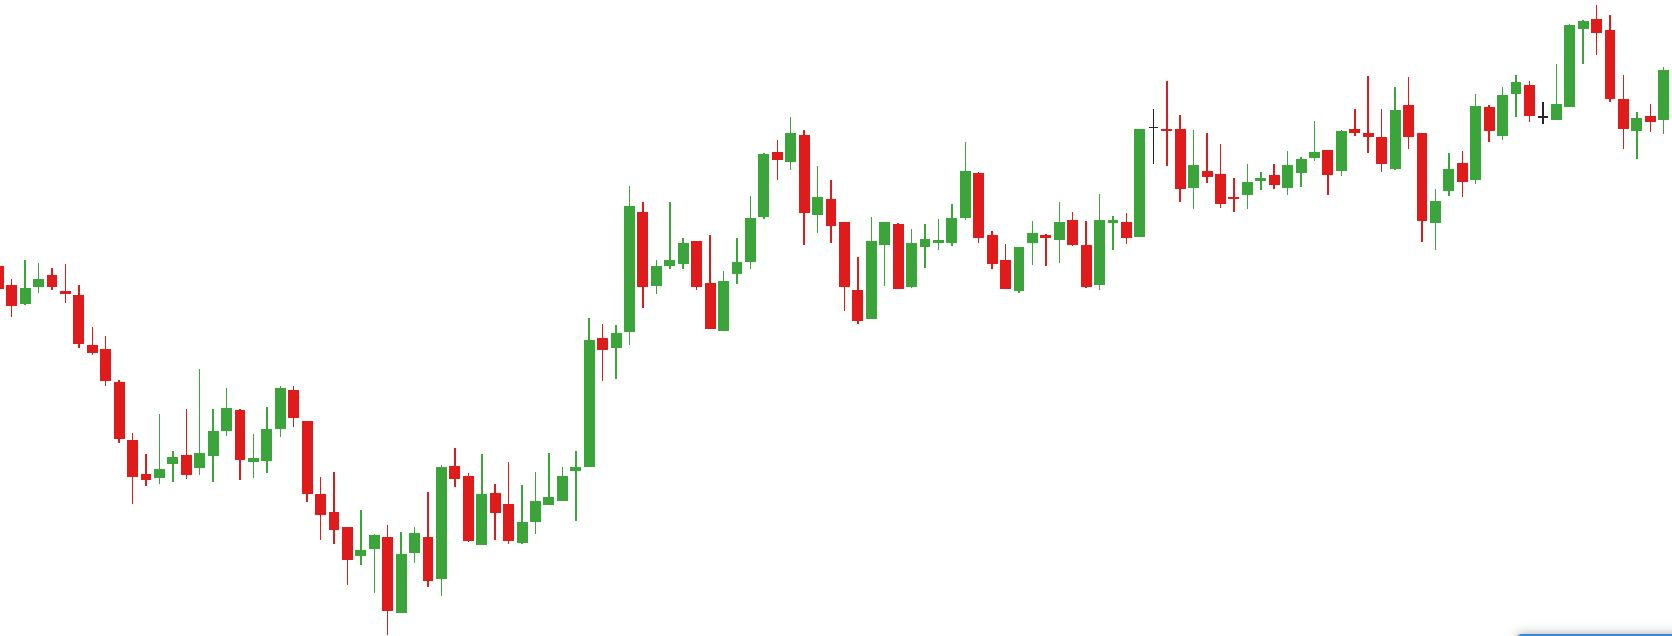buy: (1320, 112, 1457, 254), (891, 175, 1028, 293), (1525, 51, 1645, 170)
sell: (621, 112, 811, 273)
